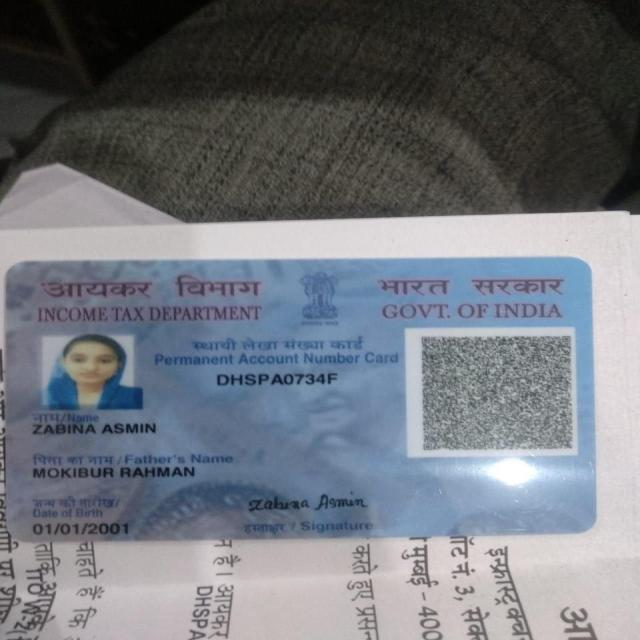pan_card: (10, 262, 594, 544)
